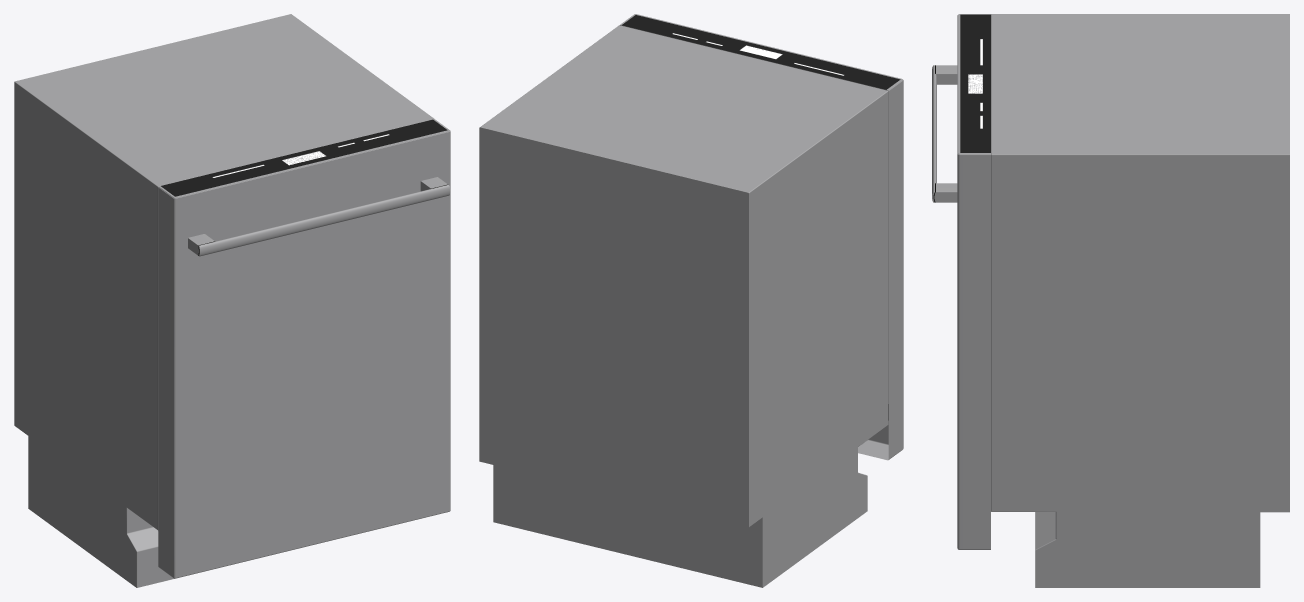
File: dishwasher_fully.glb
The picture shows the model from 3 angles, left to right: view 1: azimuth 30°, elevation 25°; view 2: azimuth 150°, elevation 25°; view 3: azimuth 270°, elevation 25°; orthographic projection. The views are drawn at different scales.
Parts seen in each view (by area): view 1: Bosch_Dishwasher_1_Door; view 2: Bosch_Dishwasher_1_Door; view 3: Bosch_Dishwasher_1_Door.
Boxes of the visible parts, box(x1,y1,x2,y2) form: Bosch_Dishwasher_1_Door: box(14, 14, 450, 587); Bosch_Dishwasher_1_Door: box(479, 14, 903, 587); Bosch_Dishwasher_1_Door: box(932, 14, 1289, 587).
Bounding box in the file's own units: 0.598 × 0.8594 × 0.6429.
Materials: 2 (2 with a texture image).
